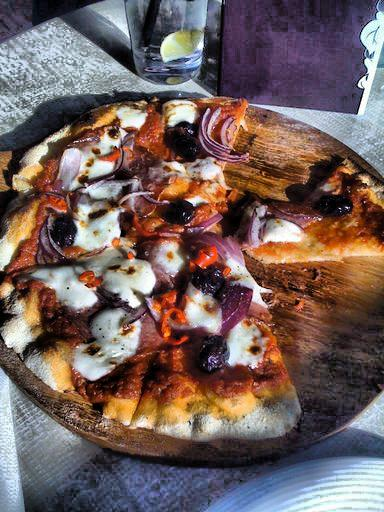pizza: (13, 87, 383, 438)
